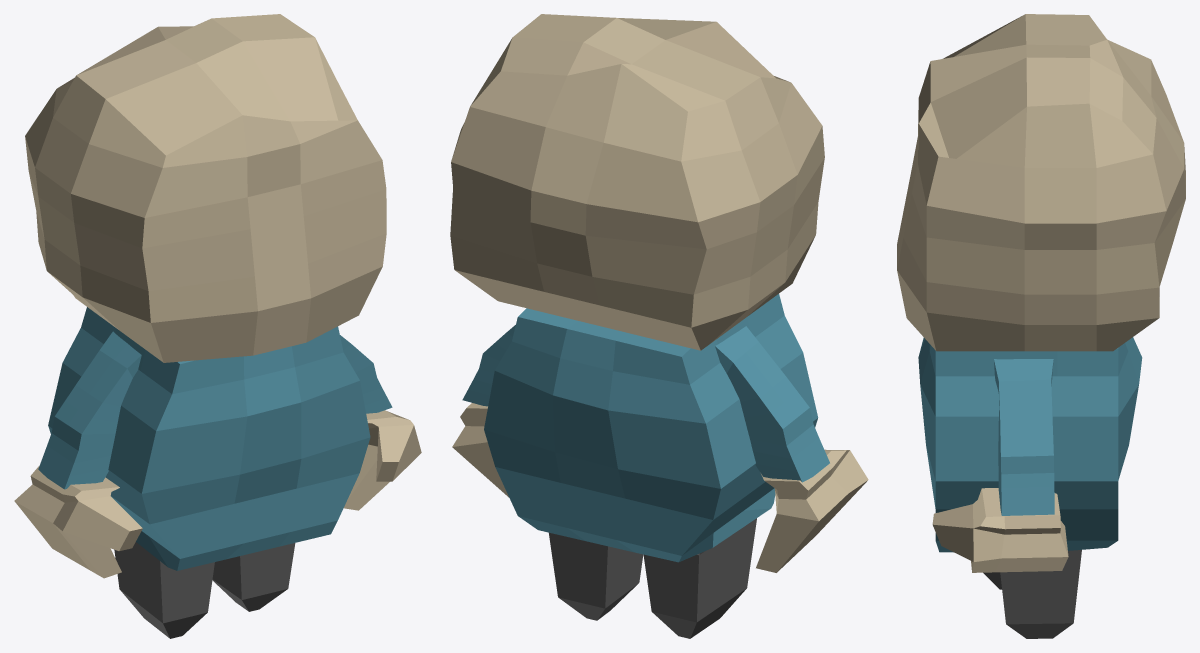
The model's file is Player.fbx.
3 views of the same model, side by side, from view 1: azimuth 30°, elevation 25°; view 2: azimuth 150°, elevation 25°; view 3: azimuth 270°, elevation 25° (orthographic). The views are drawn at different scales.
Visible parts, largest first — view 1: Cube.002, Cube.003, Cube.010, Cube.004, Cube.000, Cube.014, Cube.001, Cube.015; view 2: Cube.002, Cube.003, Cube.010, Cube.000, Cube.004, Cube.001, Cube.014, Cube.015; view 3: Cube.002, Cube.003, Cube.015, Cube.014, Cube.001.
Boxes of the visible parts, box(x1,y1,x2,y2) form: Cube.002: box(25, 14, 386, 362); Cube.003: box(48, 307, 370, 570); Cube.010: box(38, 331, 141, 489); Cube.004: box(14, 466, 142, 578); Cube.000: box(114, 542, 214, 638); Cube.014: box(344, 410, 421, 510); Cube.001: box(212, 543, 295, 611); Cube.015: box(340, 335, 392, 413); Cube.002: box(450, 14, 824, 350); Cube.003: box(484, 294, 818, 562); Cube.010: box(715, 326, 829, 482); Cube.000: box(643, 518, 756, 638); Cube.004: box(756, 449, 868, 572); Cube.001: box(549, 532, 643, 620); Cube.014: box(452, 403, 508, 497); Cube.015: box(462, 325, 515, 406); Cube.002: box(897, 14, 1185, 351); Cube.003: box(918, 337, 1142, 552); Cube.015: box(994, 359, 1054, 515); Cube.014: box(932, 488, 1068, 572); Cube.001: box(1000, 550, 1081, 638).
Bounding box in the file's own units: 231 × 347 × 159.
